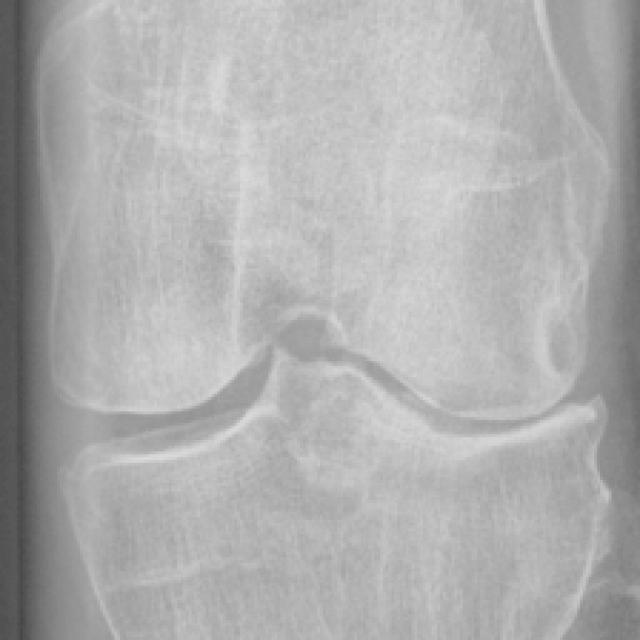femur: (49, 0, 607, 418)
tibia: (81, 354, 606, 637)
